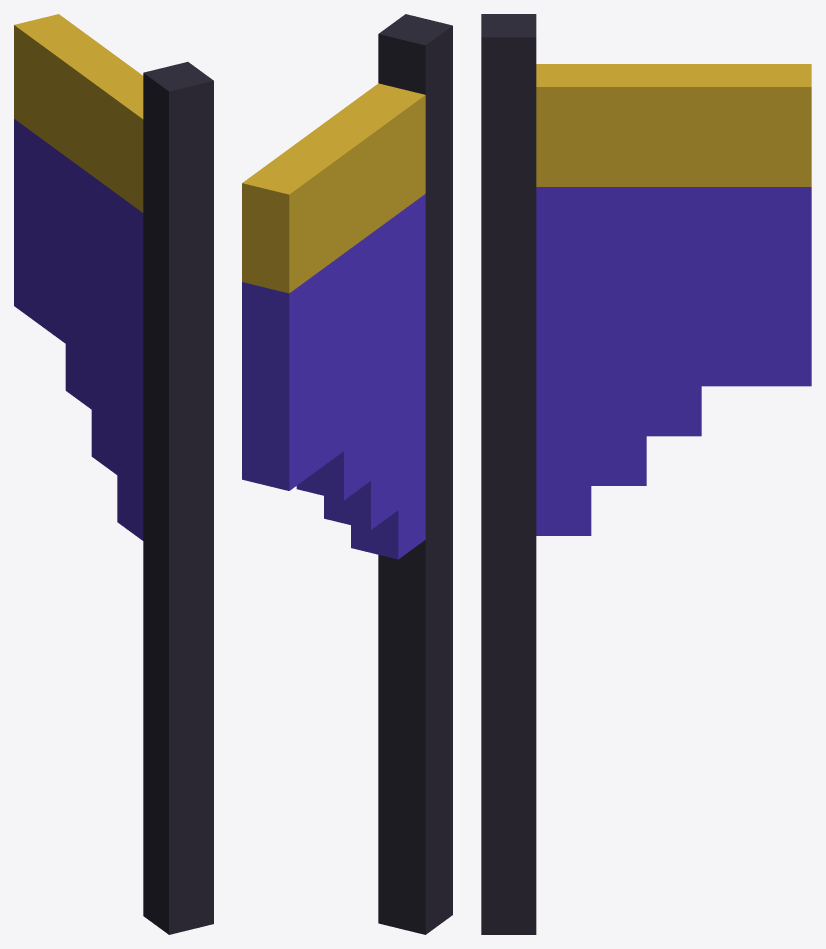
Rendered from banner.glb.
The picture shows the model from 3 angles, left to right: view 1: azimuth 30°, elevation 25°; view 2: azimuth 150°, elevation 25°; view 3: azimuth 270°, elevation 25°; orthographic projection. The views are drawn at different scales.
Parts seen in each view (by area): view 1: banner; view 2: banner; view 3: banner.
Part boxes in pixels (x1=…): banner: x1=14, y1=14, x2=213, y2=934; banner: x1=242, y1=14, x2=452, y2=934; banner: x1=481, y1=14, x2=811, y2=934.
Bounding box in the file's own units: 0.1 × 1.8 × 0.6.
